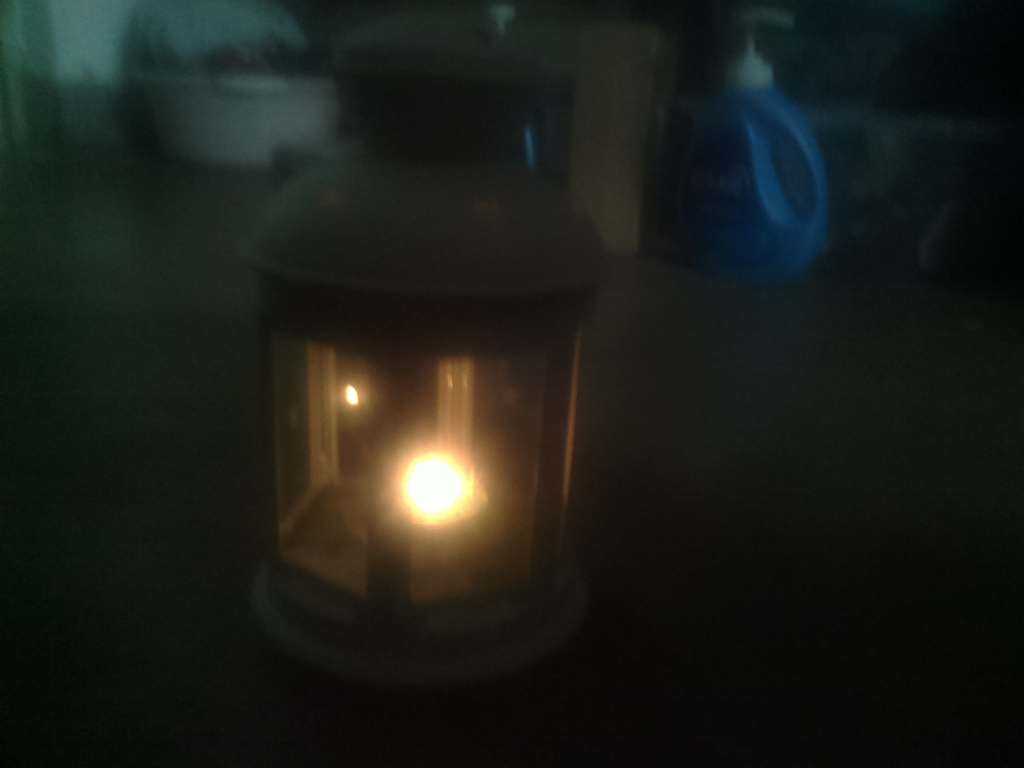fire: (363, 431, 513, 550)
